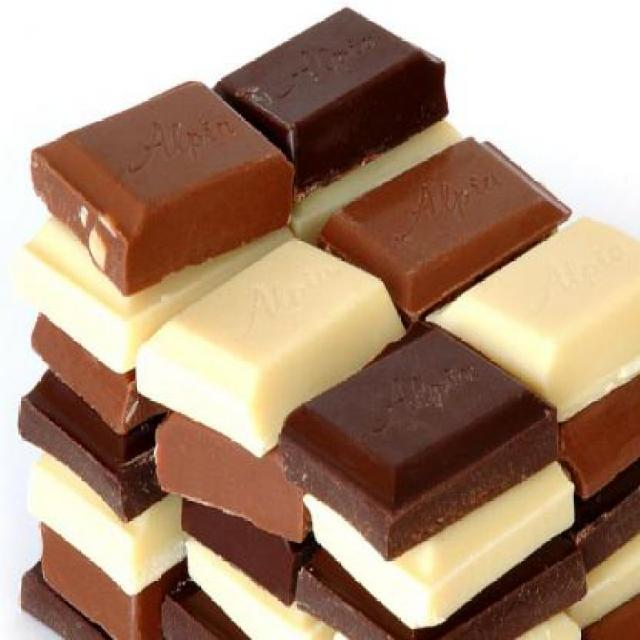Chocolate bar packaged: (278, 330, 564, 568), (135, 240, 414, 460), (27, 79, 292, 295), (313, 134, 576, 323), (426, 215, 640, 428), (212, 8, 450, 186)
